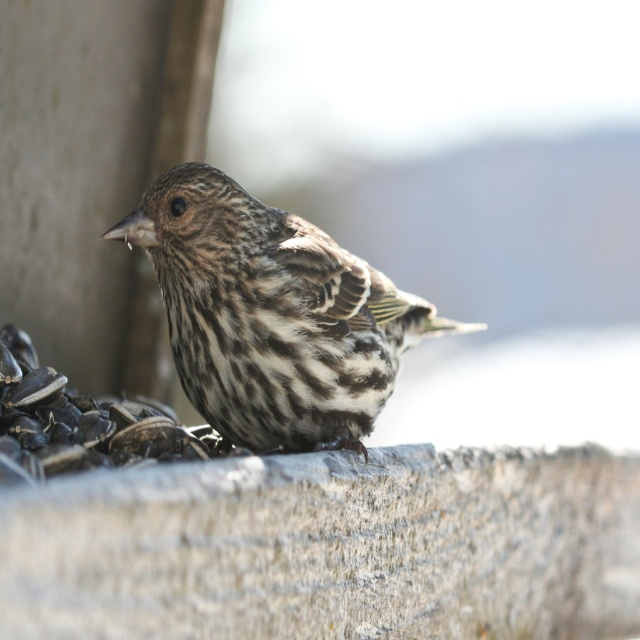Sparrow: (97, 160, 489, 467)
